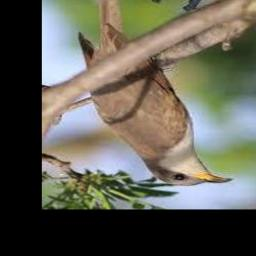Cuckoo: (79, 0, 233, 186)
